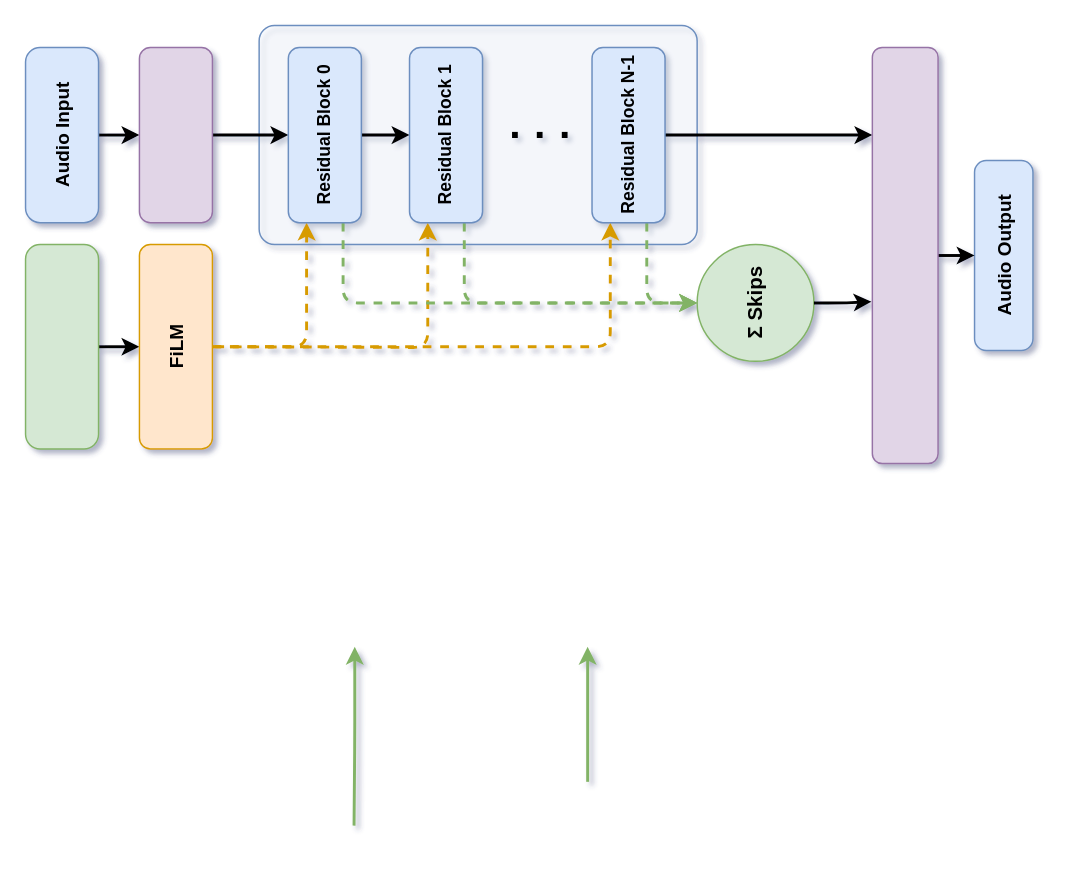
Image size: 1067x873. Some labels were removed from this diagram. Here are the shapes that lost their labels. From the top down, the centre of each, then its label:
At pixel 175 134: "Input Stem".
At pixel 904 255: "Output Stem".
At pixel 61 346: "Band Conditioning".
